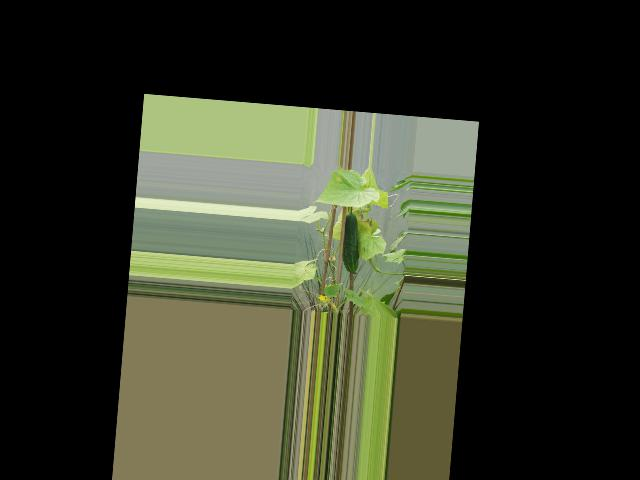cucumber: (340, 212, 362, 274)
